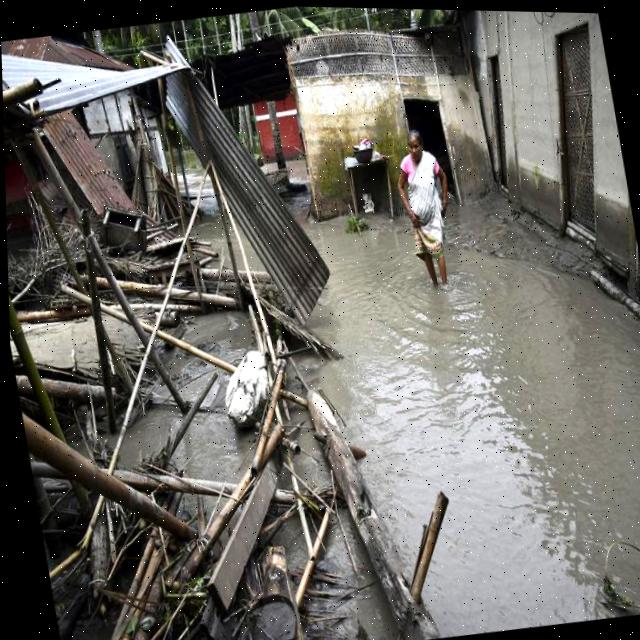civilian: (387, 119, 470, 300)
